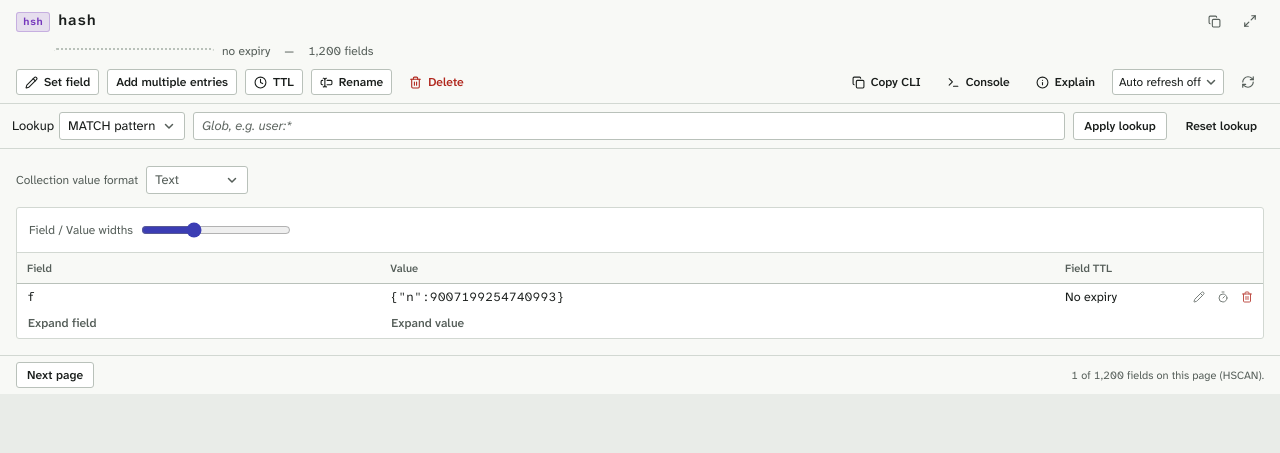
Test case: F1 collection lookup › resets paging when MATCH changes and shows filter count separately from the total
Click the button "Next page". click: (55,375)
box: left=16, top=362, right=94, bottom=388
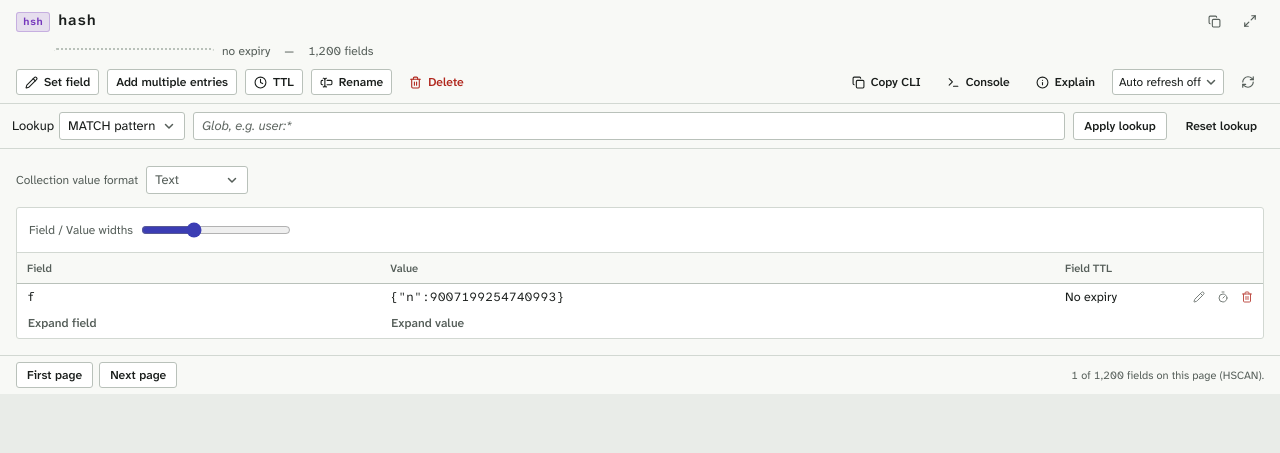
Type "target*" into the field named "Collection lookup". click: (629,126)
box: left=193, top=112, right=1065, bottom=140
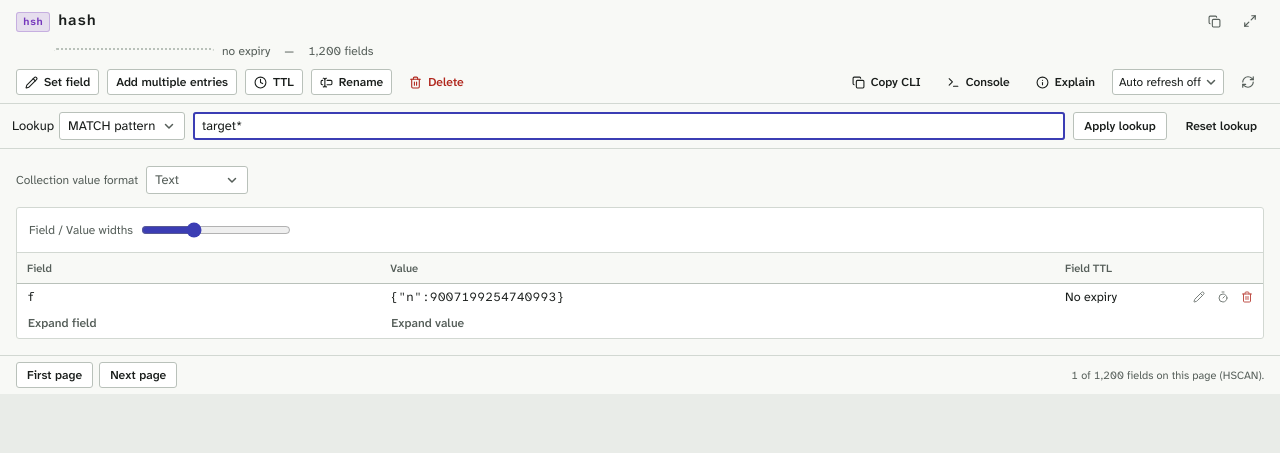
Click the button "Apply lookup". click: (1120,126)
box: left=1073, top=112, right=1167, bottom=140
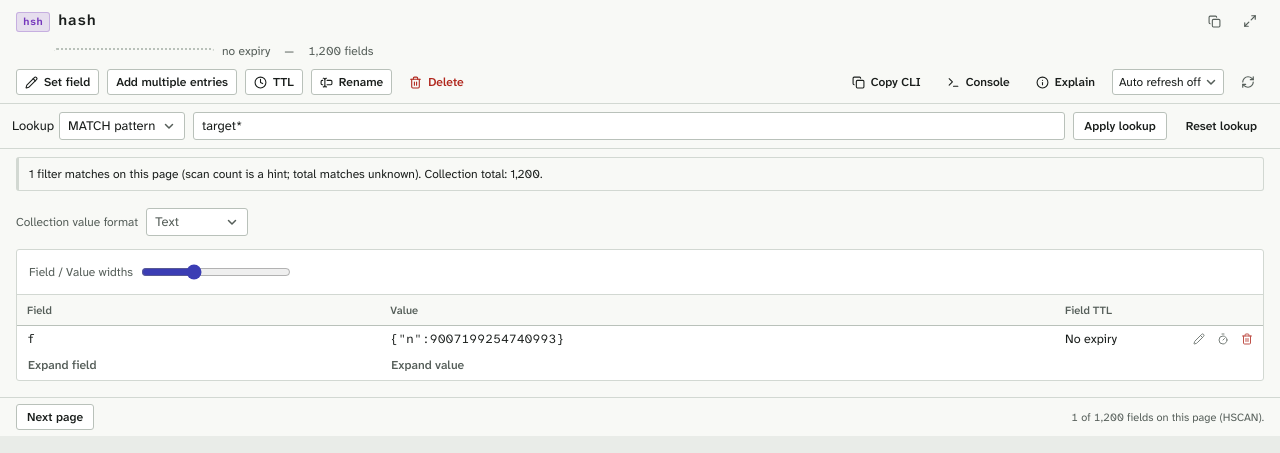
Now the text with test id "collection-filter-count" shows "1 filter matches on this page", box left=29, top=166, right=419, bottom=182
Now the text with test id "collection-filter-count" shows "Collection total: 1,200", box left=16, top=157, right=1264, bottom=191
